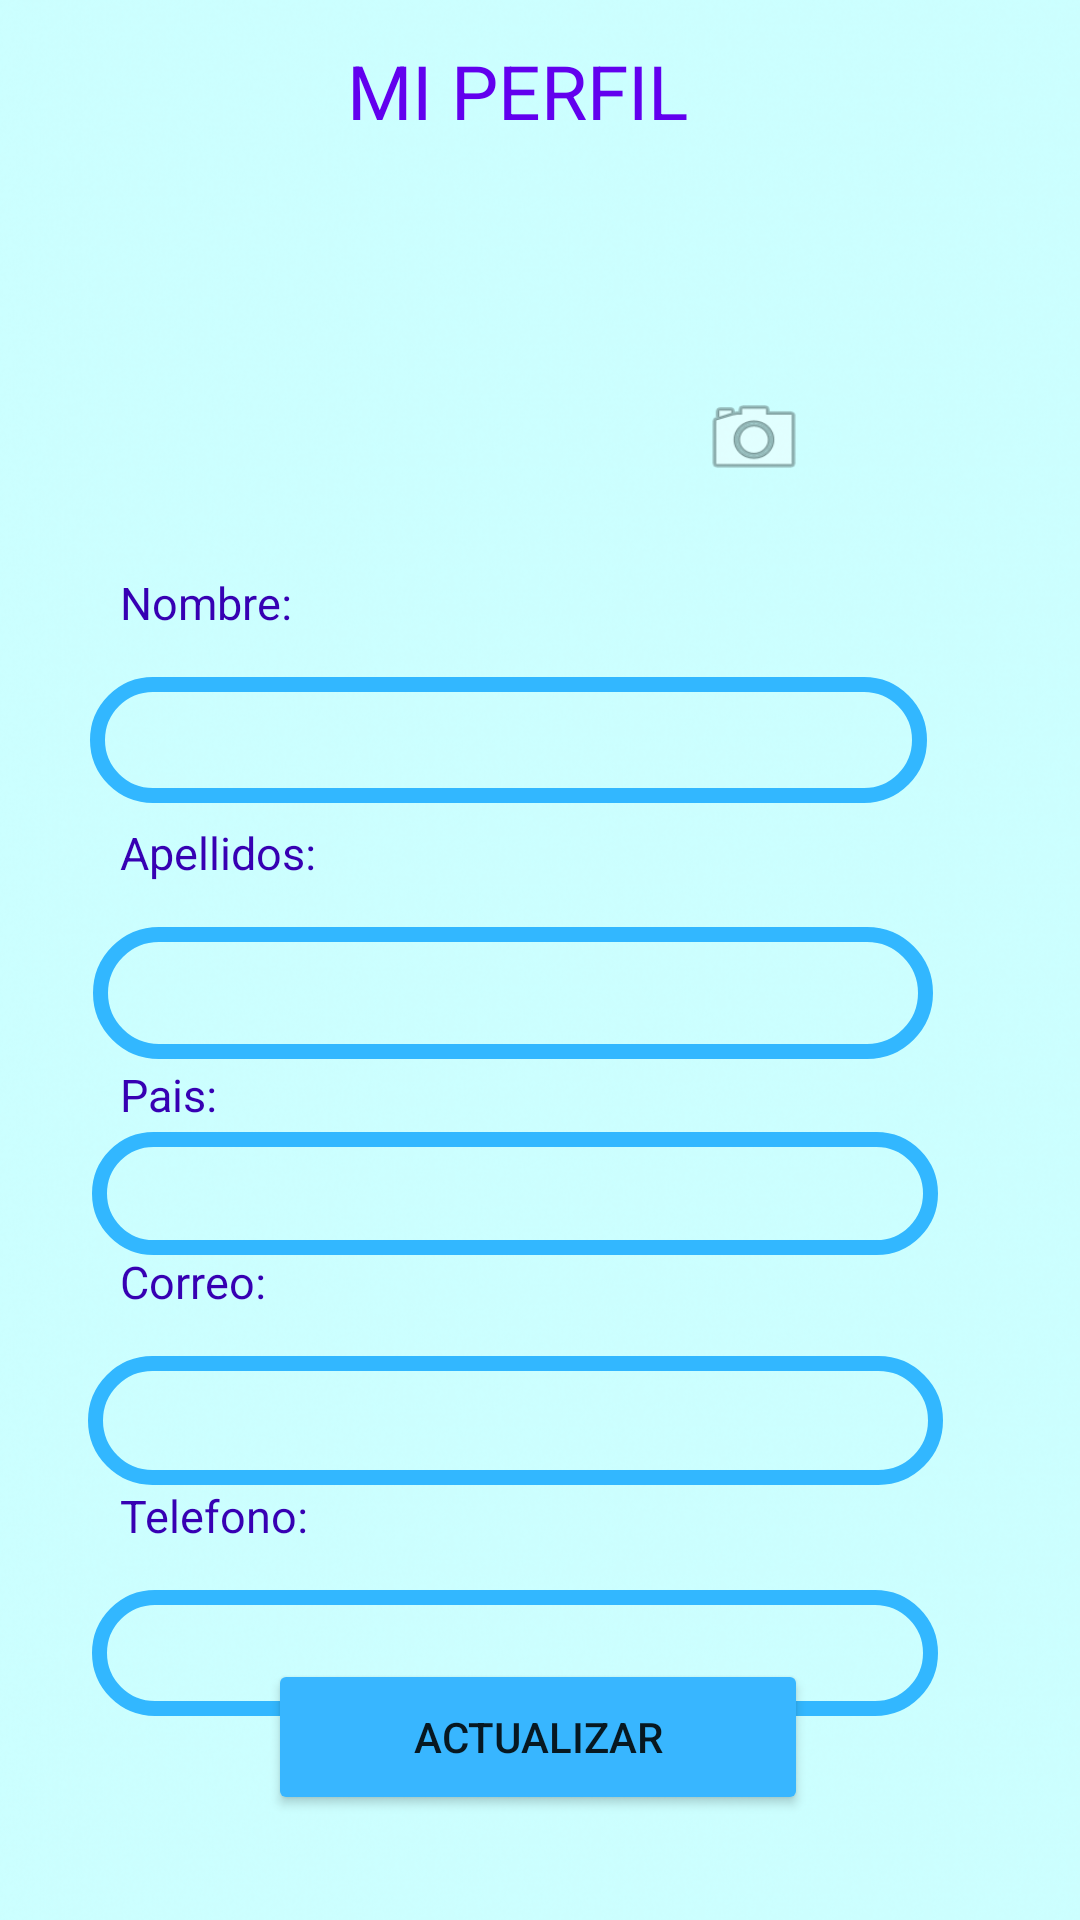

Icon bounding boxes for this 1080×1920 phone screenshot, format (x1, y1, x2, y2):
camera: (712, 405, 796, 468)
